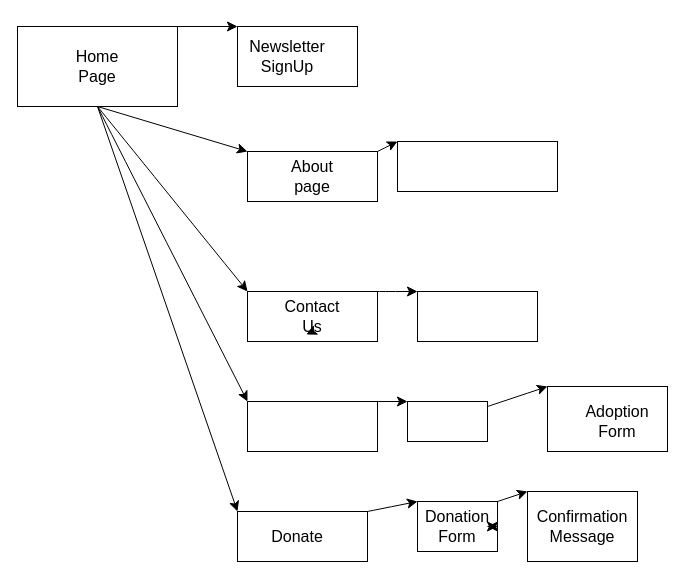
The diagram is 685 pixels wide and 579 high, and some of its shapes have lost their labels. Here are the shapes that lost their labels. From the top down, the box of each, then its label:
(396, 140, 558, 192): Links to Social Media and Partners
(416, 290, 538, 342): Contact Form
(246, 400, 378, 452): Adopt
(406, 400, 488, 442): Adopt Me Button
